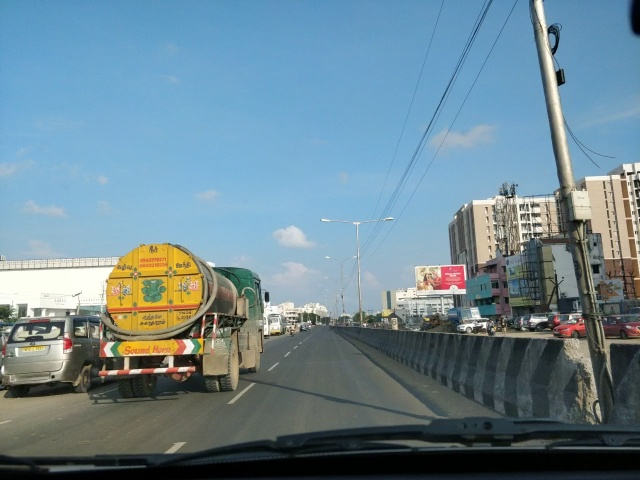bus: (269, 313, 287, 334)
car: (1, 318, 102, 394), (603, 313, 639, 337), (553, 317, 588, 338), (524, 312, 555, 330), (454, 318, 487, 332), (561, 312, 582, 325), (548, 315, 563, 327), (404, 322, 421, 331), (514, 316, 525, 329), (300, 324, 309, 332)
motorbike: (486, 319, 496, 334), (289, 324, 295, 337)
person: (500, 316, 509, 334)
truck: (102, 242, 270, 397), (447, 308, 482, 323), (423, 314, 449, 326)
